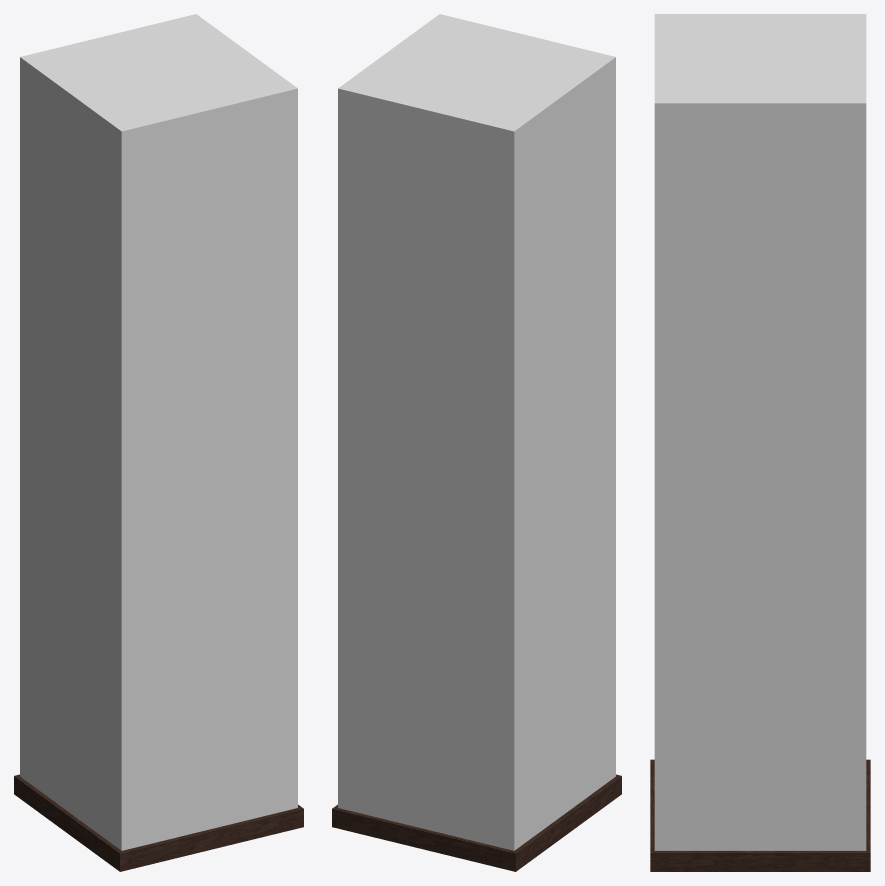
The model's file is pillar.FBX.
The picture shows the model from 3 angles, left to right: view 1: azimuth 30°, elevation 25°; view 2: azimuth 150°, elevation 25°; view 3: azimuth 270°, elevation 25°; orthographic projection. The views are drawn at different scales.
Visible parts, largest first — view 1: pillar; view 2: pillar; view 3: pillar.
Part boxes in pixels (x1,y1,x2,y2): pillar: (14, 14, 303, 871); pillar: (332, 14, 621, 871); pillar: (650, 14, 870, 871).
Size of the model in its own units: 1.04 by 4 by 1.04.
1 material, 1 textured.
